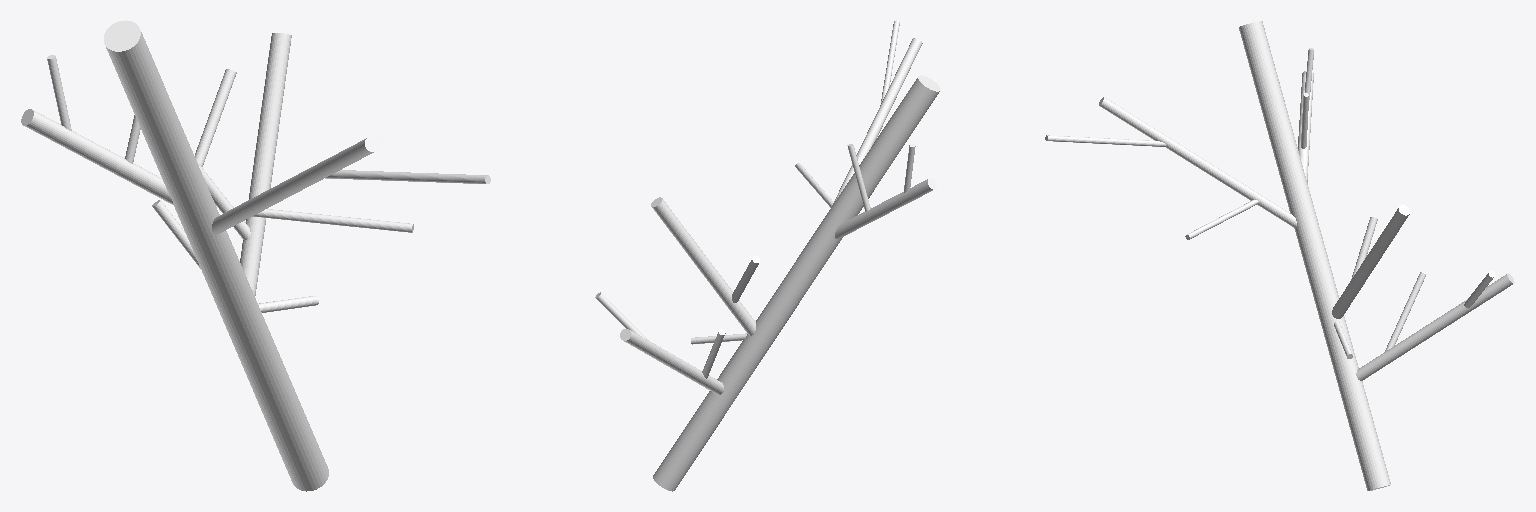
robot.urdf — tree_16.urdf:
<?xml version='1.0' encoding='UTF-8'?>
<robot name="tree_16.urdf">
  <link name="branch_0">
    <inertial>
      <origin xyz="0.0 0.0 0.0" rpy="0.0 -0.0 0.0"/>
      <mass value="1.0"/>
      <inertia ixx="1.0" ixy="0.0" ixz="0.0" iyy="1.0" iyz="0.0" izz="1.0"/>
    </inertial>
    <visual name="branch_0_visual">
      <geometry>
        <cylinder radius="0.16895194213786727" length="6.580643654134677"/>
      </geometry>
      <material name="branch_material"/>
      <origin xyz="-1.45815746140996 -0.8798957634653345 2.8152758281997823" rpy="0.0 0.544042581618709 -2.598655007786924"/>
    </visual>
    <collision name="branch_0_collision">
      <geometry>
        <cylinder radius="0.16895194213786727" length="6.580643654134677"/>
      </geometry>
      <origin xyz="-1.45815746140996 -0.8798957634653345 2.8152758281997823" rpy="0.0 0.544042581618709 -2.598655007786924"/>
    </collision>
  </link>
  <link name="branch_1">
    <inertial>
      <origin xyz="0.0 0.0 0.0" rpy="0.0 -0.0 0.0"/>
      <mass value="1.0"/>
      <inertia ixx="1.0" ixy="0.0" ixz="0.0" iyy="1.0" iyz="0.0" izz="1.0"/>
    </inertial>
    <visual name="branch_1_visual">
      <geometry>
        <cylinder radius="0.08059116518871441" length="2.023015755133424"/>
      </geometry>
      <material name="branch_material"/>
      <origin xyz="0.0 0.0 0.0" rpy="0.0 -0.0 0.0"/>
    </visual>
    <collision name="branch_1_collision">
      <geometry>
        <cylinder radius="0.08059116518871441" length="2.023015755133424"/>
      </geometry>
      <origin xyz="0.0 0.0 0.0" rpy="0.0 -0.0 0.0"/>
    </collision>
  </link>
  <link name="branch_2">
    <inertial>
      <origin xyz="0.0 0.0 0.0" rpy="0.0 -0.0 0.0"/>
      <mass value="1.0"/>
      <inertia ixx="1.0" ixy="0.0" ixz="0.0" iyy="1.0" iyz="0.0" izz="1.0"/>
    </inertial>
    <visual name="branch_2_visual">
      <geometry>
        <cylinder radius="0.04" length="0.9992009780123995"/>
      </geometry>
      <material name="branch_material"/>
      <origin xyz="0.0 0.0 0.0" rpy="0.0 -0.0 0.0"/>
    </visual>
    <collision name="branch_2_collision">
      <geometry>
        <cylinder radius="0.04" length="0.9992009780123995"/>
      </geometry>
      <origin xyz="0.0 0.0 0.0" rpy="0.0 -0.0 0.0"/>
    </collision>
  </link>
  <link name="branch_3">
    <inertial>
      <origin xyz="0.0 0.0 0.0" rpy="0.0 -0.0 0.0"/>
      <mass value="1.0"/>
      <inertia ixx="1.0" ixy="0.0" ixz="0.0" iyy="1.0" iyz="0.0" izz="1.0"/>
    </inertial>
    <visual name="branch_3_visual">
      <geometry>
        <cylinder radius="0.04" length="0.8108448837657413"/>
      </geometry>
      <material name="branch_material"/>
      <origin xyz="0.0 0.0 0.0" rpy="0.0 -0.0 0.0"/>
    </visual>
    <collision name="branch_3_collision">
      <geometry>
        <cylinder radius="0.04" length="0.8108448837657413"/>
      </geometry>
      <origin xyz="0.0 0.0 0.0" rpy="0.0 -0.0 0.0"/>
    </collision>
  </link>
  <link name="branch_4">
    <inertial>
      <origin xyz="0.0 0.0 0.0" rpy="0.0 -0.0 0.0"/>
      <mass value="1.0"/>
      <inertia ixx="1.0" ixy="0.0" ixz="0.0" iyy="1.0" iyz="0.0" izz="1.0"/>
    </inertial>
    <visual name="branch_4_visual">
      <geometry>
        <cylinder radius="0.08290406747158012" length="2.7542224042565926"/>
      </geometry>
      <material name="branch_material"/>
      <origin xyz="0.0 0.0 0.0" rpy="0.0 -0.0 0.0"/>
    </visual>
    <collision name="branch_4_collision">
      <geometry>
        <cylinder radius="0.08290406747158012" length="2.7542224042565926"/>
      </geometry>
      <origin xyz="0.0 0.0 0.0" rpy="0.0 -0.0 0.0"/>
    </collision>
  </link>
  <link name="branch_5">
    <inertial>
      <origin xyz="0.0 0.0 0.0" rpy="0.0 -0.0 0.0"/>
      <mass value="1.0"/>
      <inertia ixx="1.0" ixy="0.0" ixz="0.0" iyy="1.0" iyz="0.0" izz="1.0"/>
    </inertial>
    <visual name="branch_5_visual">
      <geometry>
        <cylinder radius="0.04635701072045985" length="1.2856308794458866"/>
      </geometry>
      <material name="branch_material"/>
      <origin xyz="0.0 0.0 0.0" rpy="0.0 -0.0 0.0"/>
    </visual>
    <collision name="branch_5_collision">
      <geometry>
        <cylinder radius="0.04635701072045985" length="1.2856308794458866"/>
      </geometry>
      <origin xyz="0.0 0.0 0.0" rpy="0.0 -0.0 0.0"/>
    </collision>
  </link>
  <link name="branch_6">
    <inertial>
      <origin xyz="0.0 0.0 0.0" rpy="0.0 -0.0 0.0"/>
      <mass value="1.0"/>
      <inertia ixx="1.0" ixy="0.0" ixz="0.0" iyy="1.0" iyz="0.0" izz="1.0"/>
    </inertial>
    <visual name="branch_6_visual">
      <geometry>
        <cylinder radius="0.05036449496449744" length="1.0558656369381187"/>
      </geometry>
      <material name="branch_material"/>
      <origin xyz="0.0 0.0 0.0" rpy="0.0 -0.0 0.0"/>
    </visual>
    <collision name="branch_6_collision">
      <geometry>
        <cylinder radius="0.05036449496449744" length="1.0558656369381187"/>
      </geometry>
      <origin xyz="0.0 0.0 0.0" rpy="0.0 -0.0 0.0"/>
    </collision>
  </link>
  <link name="branch_7">
    <inertial>
      <origin xyz="0.0 0.0 0.0" rpy="0.0 -0.0 0.0"/>
      <mass value="1.0"/>
      <inertia ixx="1.0" ixy="0.0" ixz="0.0" iyy="1.0" iyz="0.0" izz="1.0"/>
    </inertial>
    <visual name="branch_7_visual">
      <geometry>
        <cylinder radius="0.07029147158384264" length="3.433845524955666"/>
      </geometry>
      <material name="branch_material"/>
      <origin xyz="0.0 0.0 0.0" rpy="0.0 -0.0 0.0"/>
    </visual>
    <collision name="branch_7_collision">
      <geometry>
        <cylinder radius="0.07029147158384264" length="3.433845524955666"/>
      </geometry>
      <origin xyz="0.0 0.0 0.0" rpy="0.0 -0.0 0.0"/>
    </collision>
  </link>
  <link name="branch_8">
    <inertial>
      <origin xyz="0.0 0.0 0.0" rpy="0.0 -0.0 0.0"/>
      <mass value="1.0"/>
      <inertia ixx="1.0" ixy="0.0" ixz="0.0" iyy="1.0" iyz="0.0" izz="1.0"/>
    </inertial>
    <visual name="branch_8_visual">
      <geometry>
        <cylinder radius="0.04" length="1.903496752053335"/>
      </geometry>
      <material name="branch_material"/>
      <origin xyz="0.0 0.0 0.0" rpy="0.0 -0.0 0.0"/>
    </visual>
    <collision name="branch_8_collision">
      <geometry>
        <cylinder radius="0.04" length="1.903496752053335"/>
      </geometry>
      <origin xyz="0.0 0.0 0.0" rpy="0.0 -0.0 0.0"/>
    </collision>
  </link>
  <link name="branch_9">
    <inertial>
      <origin xyz="0.0 0.0 0.0" rpy="0.0 -0.0 0.0"/>
      <mass value="1.0"/>
      <inertia ixx="1.0" ixy="0.0" ixz="0.0" iyy="1.0" iyz="0.0" izz="1.0"/>
    </inertial>
    <visual name="branch_9_visual">
      <geometry>
        <cylinder radius="0.04" length="1.4949744536759018"/>
      </geometry>
      <material name="branch_material"/>
      <origin xyz="0.0 0.0 0.0" rpy="0.0 -0.0 0.0"/>
    </visual>
    <collision name="branch_9_collision">
      <geometry>
        <cylinder radius="0.04" length="1.4949744536759018"/>
      </geometry>
      <origin xyz="0.0 0.0 0.0" rpy="0.0 -0.0 0.0"/>
    </collision>
  </link>
  <link name="branch_10">
    <inertial>
      <origin xyz="0.0 0.0 0.0" rpy="0.0 -0.0 0.0"/>
      <mass value="1.0"/>
      <inertia ixx="1.0" ixy="0.0" ixz="0.0" iyy="1.0" iyz="0.0" izz="1.0"/>
    </inertial>
    <visual name="branch_10_visual">
      <geometry>
        <cylinder radius="0.08826194549913263" length="2.512471968280552"/>
      </geometry>
      <material name="branch_material"/>
      <origin xyz="0.0 0.0 0.0" rpy="0.0 -0.0 0.0"/>
    </visual>
    <collision name="branch_10_collision">
      <geometry>
        <cylinder radius="0.08826194549913263" length="2.512471968280552"/>
      </geometry>
      <origin xyz="0.0 0.0 0.0" rpy="0.0 -0.0 0.0"/>
    </collision>
  </link>
  <link name="branch_11">
    <inertial>
      <origin xyz="0.0 0.0 0.0" rpy="0.0 -0.0 0.0"/>
      <mass value="1.0"/>
      <inertia ixx="1.0" ixy="0.0" ixz="0.0" iyy="1.0" iyz="0.0" izz="1.0"/>
    </inertial>
    <visual name="branch_11_visual">
      <geometry>
        <cylinder radius="0.0436203347951159" length="0.9009706935964765"/>
      </geometry>
      <material name="branch_material"/>
      <origin xyz="0.0 0.0 0.0" rpy="0.0 -0.0 0.0"/>
    </visual>
    <collision name="branch_11_collision">
      <geometry>
        <cylinder radius="0.0436203347951159" length="0.9009706935964765"/>
      </geometry>
      <origin xyz="0.0 0.0 0.0" rpy="0.0 -0.0 0.0"/>
    </collision>
  </link>
  <link name="branch_12">
    <inertial>
      <origin xyz="0.0 0.0 0.0" rpy="0.0 -0.0 0.0"/>
      <mass value="1.0"/>
      <inertia ixx="1.0" ixy="0.0" ixz="0.0" iyy="1.0" iyz="0.0" izz="1.0"/>
    </inertial>
    <visual name="branch_12_visual">
      <geometry>
        <cylinder radius="0.05448691905003457" length="1.0498096589308517"/>
      </geometry>
      <material name="branch_material"/>
      <origin xyz="0.0 0.0 0.0" rpy="0.0 -0.0 0.0"/>
    </visual>
    <collision name="branch_12_collision">
      <geometry>
        <cylinder radius="0.05448691905003457" length="1.0498096589308517"/>
      </geometry>
      <origin xyz="0.0 0.0 0.0" rpy="0.0 -0.0 0.0"/>
    </collision>
  </link>
  <joint name="joint_0_1" type="fixed">
    <parent link="branch_0"/>
    <child link="branch_1"/>
    <axis xyz="1. 0. 0."/>
    <origin xyz="-2.6019212701859336 -1.0250512717107139 4.04814457767385" rpy="-0.6517466039124866 0.7336398754446306 2.2255261019997867"/>
  </joint>
  <joint name="joint_0_4" type="fixed">
    <parent link="branch_0"/>
    <child link="branch_4"/>
    <axis xyz="1. 0. 0."/>
    <origin xyz="-0.5675026099624259 0.6960083654314946 2.113695047278895" rpy="-0.5254610132196703 0.8078822506571269 0.8032195587485003"/>
  </joint>
  <joint name="joint_0_7" type="fixed">
    <parent link="branch_0"/>
    <child link="branch_7"/>
    <axis xyz="1. 0. 0."/>
    <origin xyz="-1.5934209590377475 -2.384134076718299 4.109397052146614" rpy="0.7333441561461468 0.6904272962427643 -0.5970955302341411"/>
  </joint>
  <joint name="joint_0_10" type="fixed">
    <parent link="branch_0"/>
    <child link="branch_10"/>
    <axis xyz="1. 0. 0."/>
    <origin xyz="-0.572566727758974 -0.14643096407223333 3.08723525969742" rpy="-0.09324686710201223 0.5718252953133655 0.6225711276762098"/>
  </joint>
  <joint name="joint_1_2" type="fixed">
    <parent link="branch_0"/>
    <child link="branch_2"/>
    <axis xyz="1. 0. 0."/>
    <origin xyz="-2.3181261715551695 -1.0156312399214475 4.418126353159443" rpy="-0.05022677088197196 0.2649713448691283 -0.043232999572163096"/>
  </joint>
  <joint name="joint_1_3" type="fixed">
    <parent link="branch_0"/>
    <child link="branch_3"/>
    <axis xyz="1. 0. 0."/>
    <origin xyz="-3.0803508123655226 -0.9618896847344582 4.7466313803974405" rpy="-0.09237659038413225 -0.16907222182569856 0.016874787639115874"/>
  </joint>
  <joint name="joint_4_5" type="fixed">
    <parent link="branch_0"/>
    <child link="branch_5"/>
    <axis xyz="1. 0. 0."/>
    <origin xyz="-0.9167134095670937 0.33870367374210497 2.158882663659698" rpy="0.6569291196846685 -0.012852420381232474 -2.2848518121263015"/>
  </joint>
  <joint name="joint_4_6" type="fixed">
    <parent link="branch_0"/>
    <child link="branch_6"/>
    <axis xyz="1. 0. 0."/>
    <origin xyz="-0.21731494278887048 1.3589267157338354 2.8698090958088955" rpy="-0.731229566187393 0.05649255375291406 -0.9826130173479897"/>
  </joint>
  <joint name="joint_7_8" type="fixed">
    <parent link="branch_0"/>
    <child link="branch_8"/>
    <axis xyz="1. 0. 0."/>
    <origin xyz="-1.2072852671327328 -3.6942689785022838 4.65771548249084" rpy="1.2132097465384826 0.8373254242027016 0.1496834314095106"/>
  </joint>
  <joint name="joint_7_9" type="fixed">
    <parent link="branch_0"/>
    <child link="branch_9"/>
    <axis xyz="1. 0. 0."/>
    <origin xyz="-1.0421175089167316 -2.126926909770708 3.570650131239277" rpy="1.602480335934991 0.7645589354225069 0.8790351553043807"/>
  </joint>
  <joint name="joint_10_11" type="fixed">
    <parent link="branch_0"/>
    <child link="branch_11"/>
    <axis xyz="1. 0. 0."/>
    <origin xyz="-0.6063936025875474 -0.5068776542809523 1.9870057424092151" rpy="-2.193746224341639 1.2065018377501733 -1.913785679913311"/>
  </joint>
  <joint name="joint_10_12" type="fixed">
    <parent link="branch_0"/>
    <child link="branch_12"/>
    <axis xyz="1. 0. 0."/>
    <origin xyz="-1.0632136319796983 -0.2234201558226831 3.020749728417336" rpy="0.44271161651171526 0.4516049415243758 -2.8378745820702784"/>
  </joint>
  <material name="branch_material">
    <color rgba="1. 1. 1. 1."/>
  </material>
</robot>

--- Facts derived from the render (not from the file) ---
Views: 3 orthographic renders of the robot side by side, from view 1: azimuth 30°, elevation 25°; view 2: azimuth 150°, elevation 25°; view 3: azimuth 270°, elevation 25°.
Model tree_16.urdf with 13 links and 12 joints (12 fixed), rooted at branch_0, posed all joints at 0.
Links seen in each view (by area): view 1: branch_0, branch_10, branch_1, branch_7, branch_8, branch_9, branch_6, branch_3, branch_12, branch_5, branch_11; view 2: branch_0, branch_10, branch_7, branch_4, branch_1; view 3: branch_0, branch_7, branch_4, branch_10, branch_8, branch_1, branch_5.
Boxes of the visible links, <box> form: branch_0: <box>104,20,328,491</box>; branch_10: <box>240,33,291,295</box>; branch_1: <box>21,109,173,204</box>; branch_7: <box>212,137,378,234</box>; branch_8: <box>325,170,490,183</box>; branch_9: <box>252,209,413,232</box>; branch_6: <box>195,69,236,166</box>; branch_3: <box>47,55,71,130</box>; branch_12: <box>197,162,250,239</box>; branch_5: <box>152,200,200,268</box>; branch_11: <box>258,296,318,312</box>; branch_0: <box>653,75,940,491</box>; branch_10: <box>651,197,755,335</box>; branch_7: <box>832,38,922,205</box>; branch_4: <box>620,329,723,394</box>; branch_1: <box>835,178,936,238</box>; branch_0: <box>1239,21,1390,490</box>; branch_7: <box>1099,97,1296,227</box>; branch_4: <box>1356,273,1514,380</box>; branch_10: <box>1332,205,1409,318</box>; branch_8: <box>1045,135,1166,146</box>; branch_1: <box>1298,71,1313,182</box>; branch_5: <box>1385,272,1425,351</box>.
Bounding box of the posed robot: 3.62 × 6.4 × 5.81 m (x, y, z).
Geometry: primitives only (box / cylinder / sphere), no mesh files.